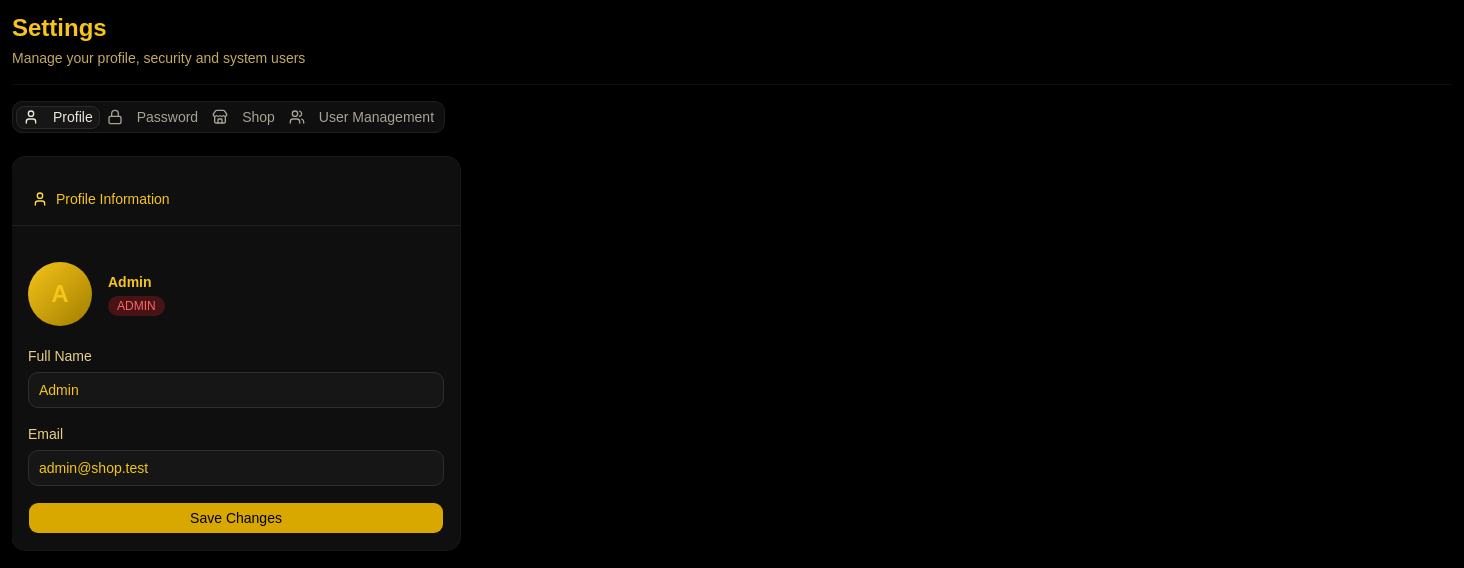
Test case: Settings — user management › lists the users the API returned
The width and height of the screenshot is (1464, 568).
Click the tab "User Management" at (362, 117), box [282, 106, 441, 128]
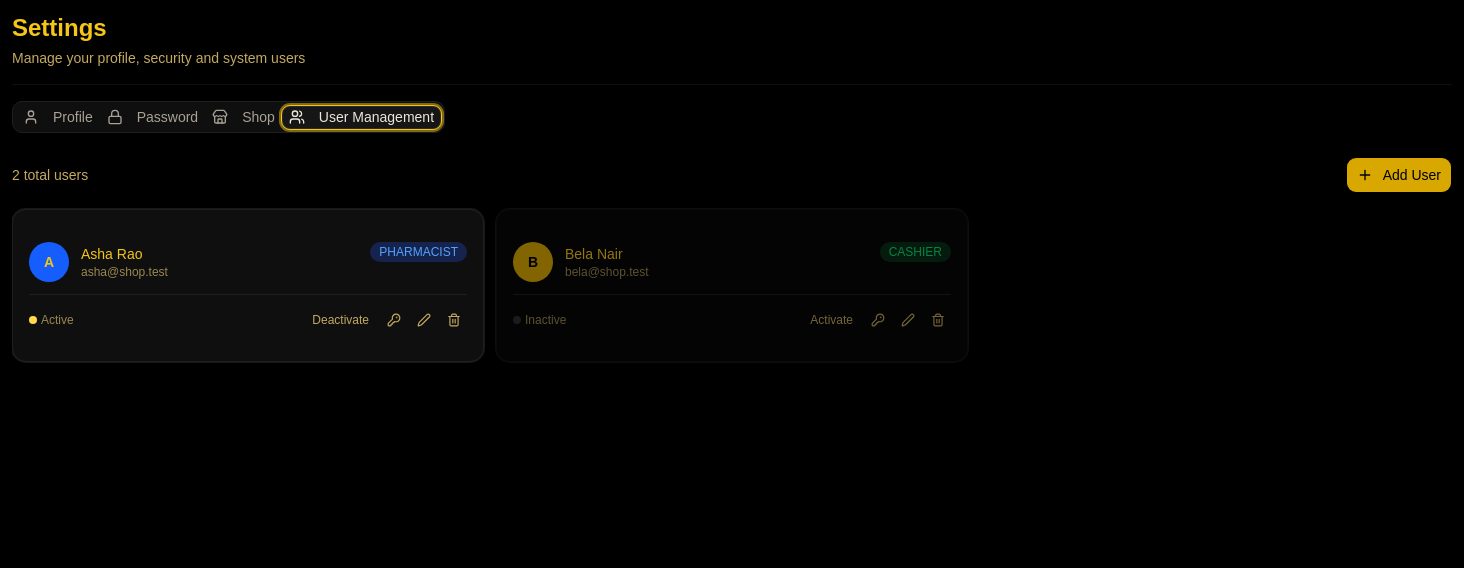
Expected: the text "Bela Nair" is shown, [565, 244, 623, 264]
